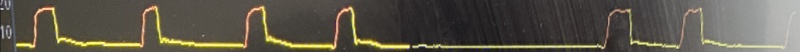normal_pressure: (17, 0, 418, 52), (590, 0, 796, 52)
